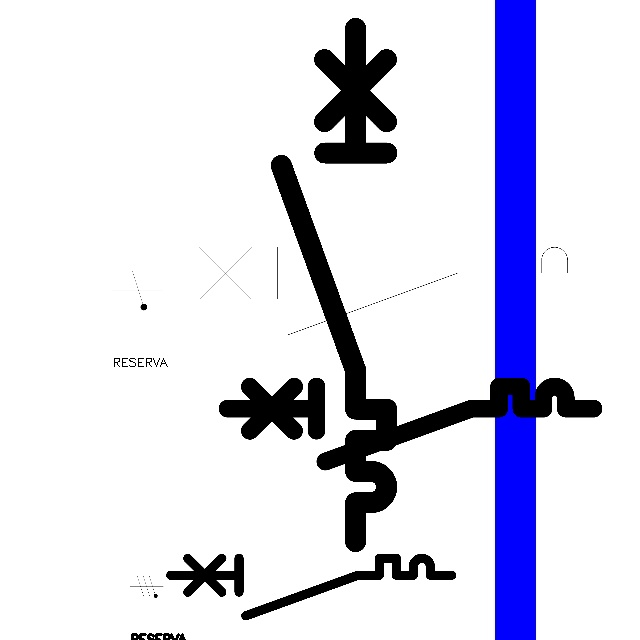interruptor_termomagnetico: (268, 15, 400, 555), (162, 236, 610, 345), (218, 377, 603, 471), (163, 551, 459, 623)
